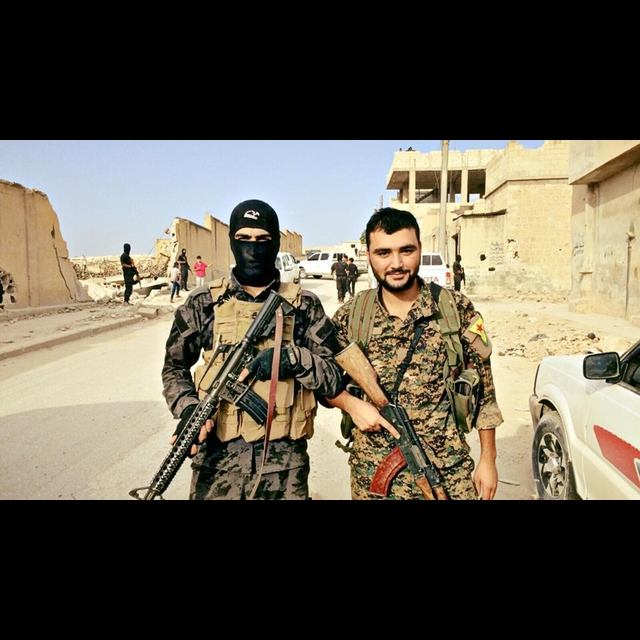AK47: (355, 402, 456, 500)
YPG: (466, 314, 491, 348)
